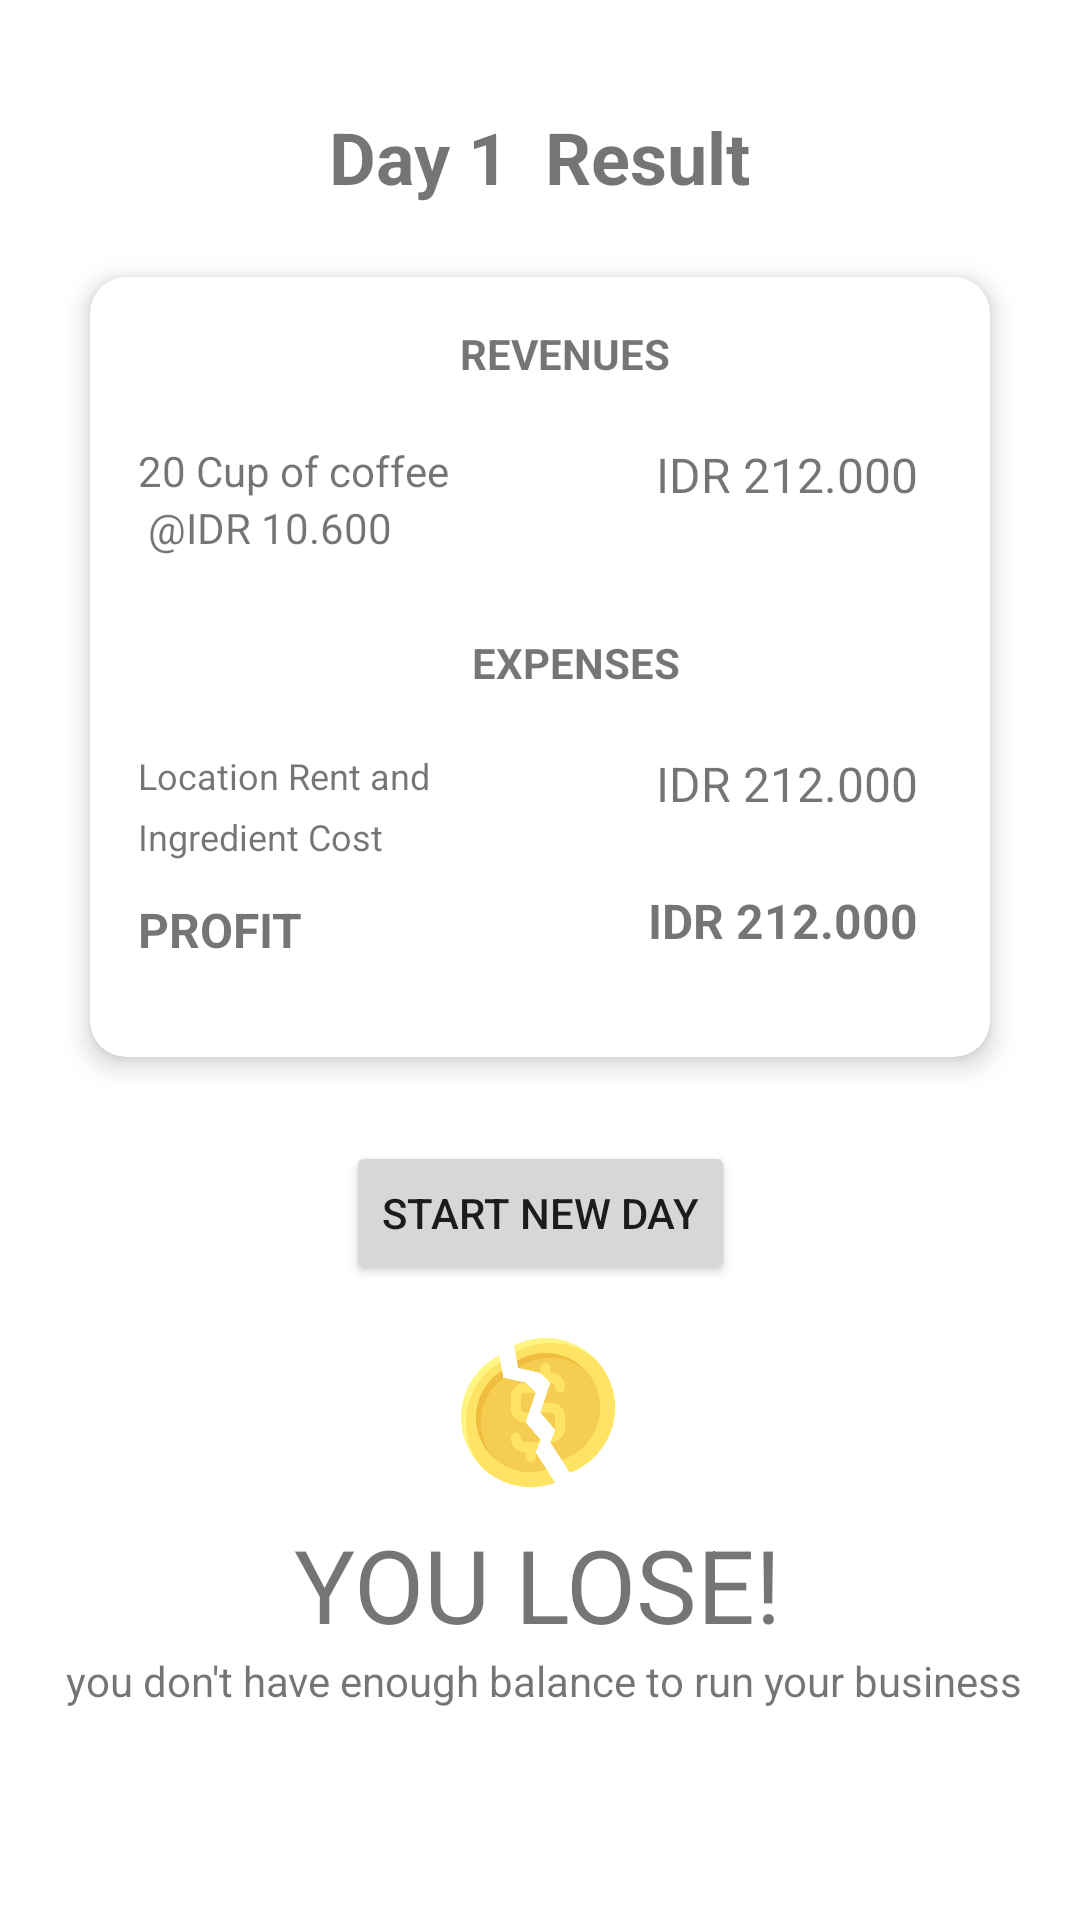

Icons on this 1080 × 1920 Android screen, each with the point to tap as (x,y):
bankrupt: (538,1412)
